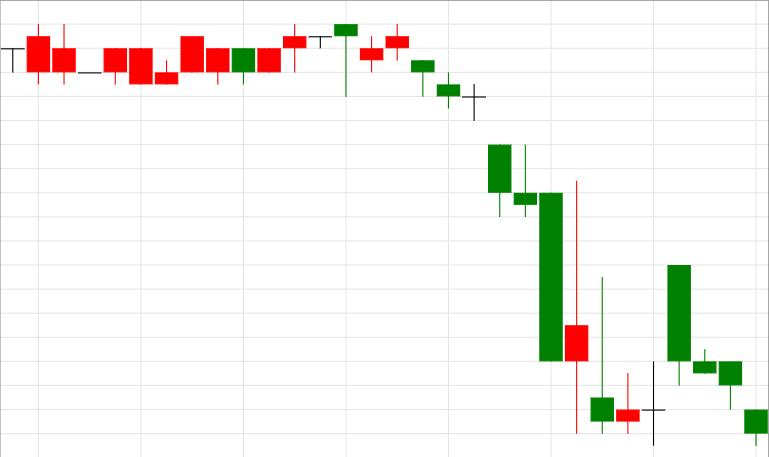inverse_hammer_rise: (411, 61, 614, 435)
